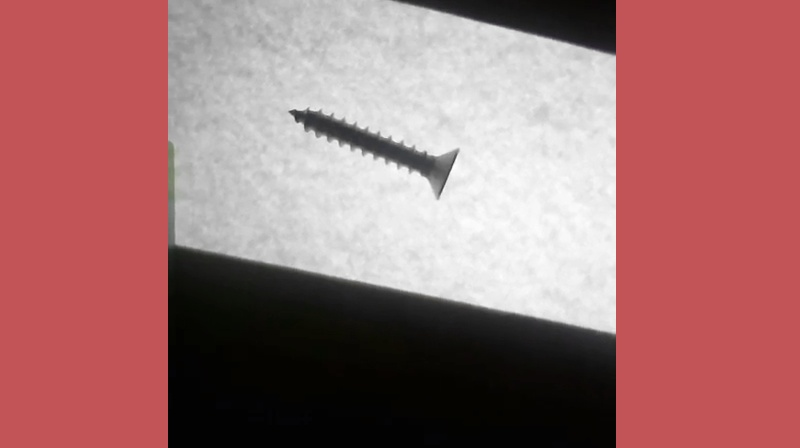S001: (283, 106, 462, 202)
